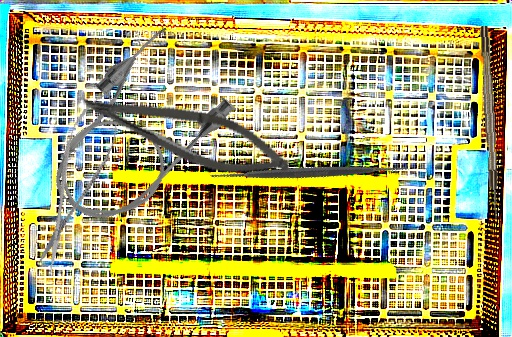Cannula: (24, 18, 246, 245)
Hook Surgical: (479, 25, 501, 221)
Micro Scissor: (71, 82, 299, 188), (23, 82, 131, 276)
Spatula Surgical: (203, 66, 415, 278)
